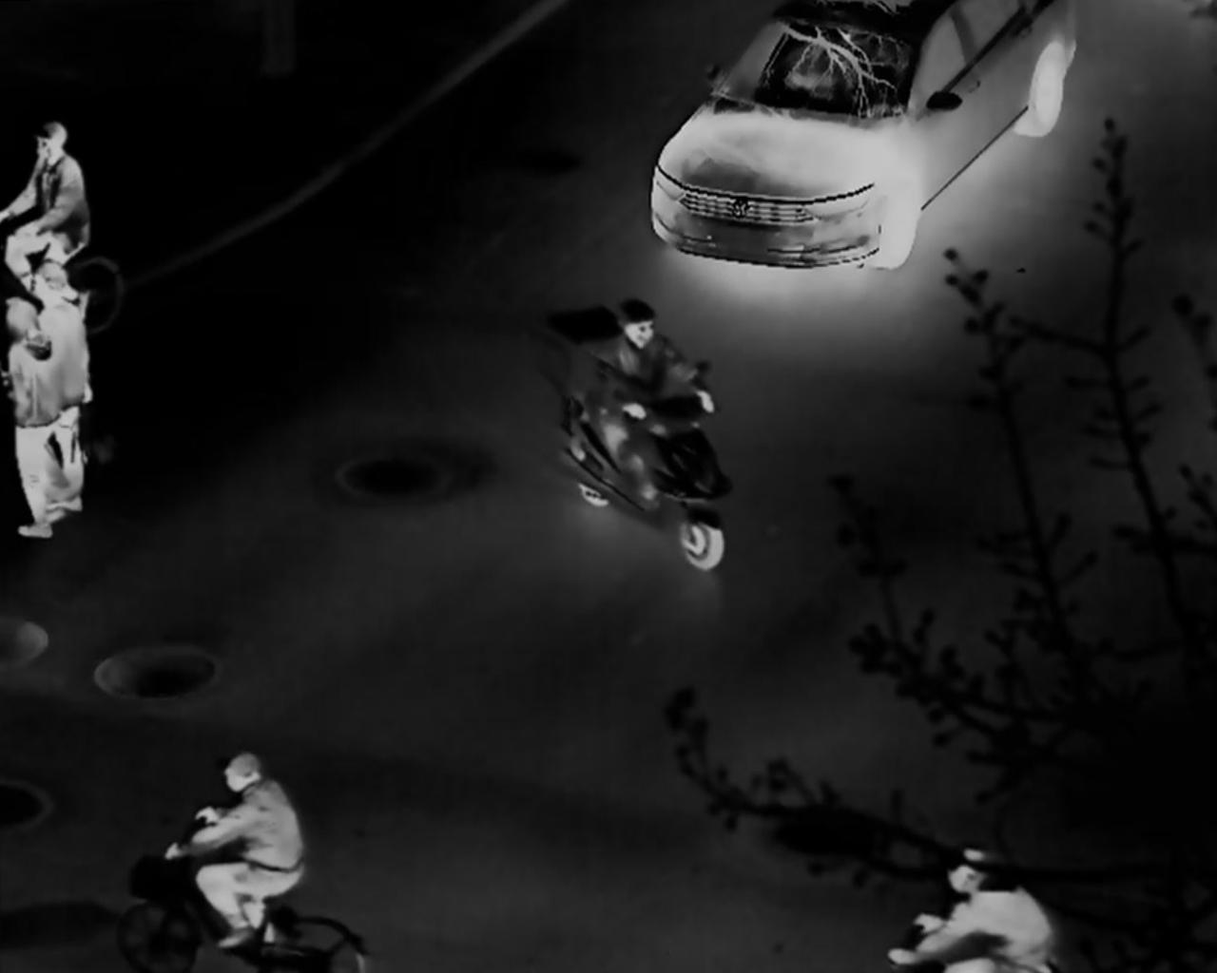person: (161, 752, 304, 952), (889, 846, 1057, 973), (606, 299, 716, 483), (2, 297, 67, 541), (29, 261, 88, 513)
